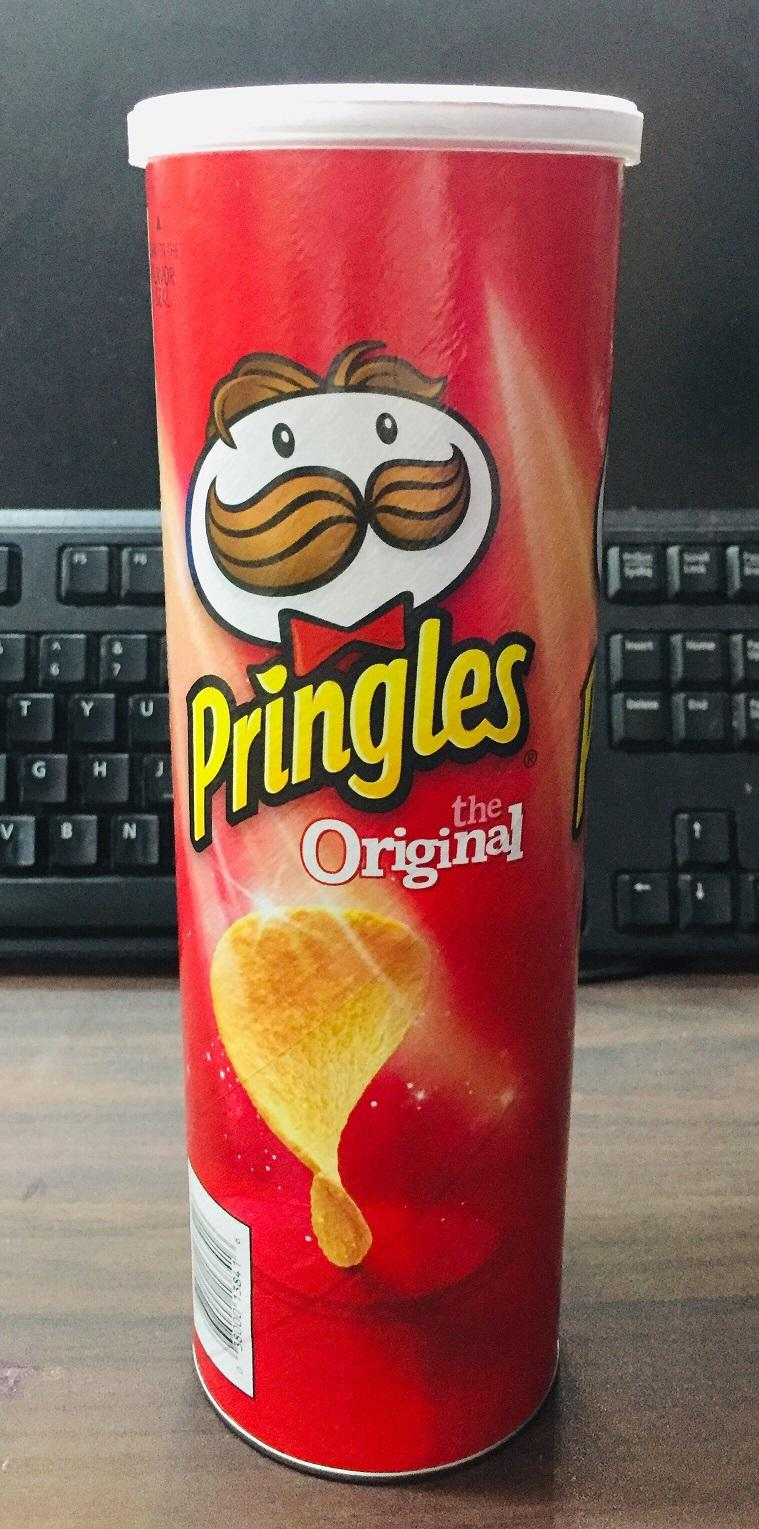pringle: (108, 71, 650, 1494)
